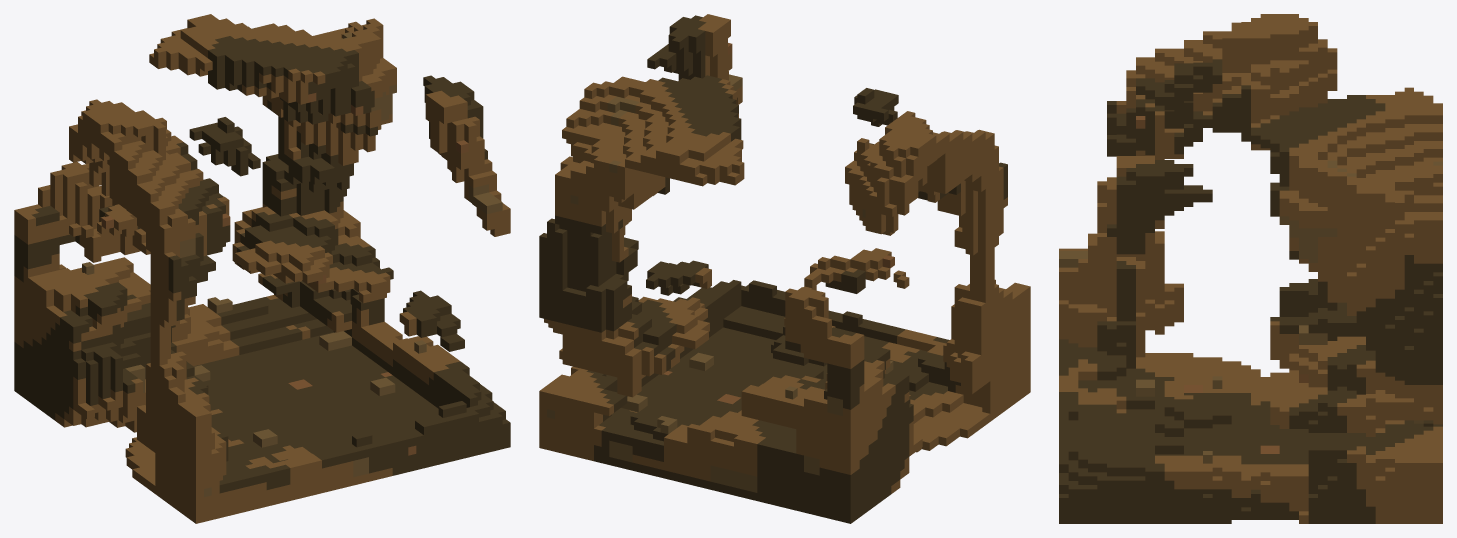
3 views of the same model, side by side, from view 1: azimuth 30°, elevation 25°; view 2: azimuth 150°, elevation 25°; view 3: azimuth 270°, elevation 25° (orthographic). The views are drawn at different scales.
Visible parts, largest first — view 1: tu; view 2: tu; view 3: tu.
Part boxes in pixels (left/top/right/bottom): tu: left=14, top=14, right=510, bottom=523; tu: left=539, top=14, right=1030, bottom=523; tu: left=1059, top=14, right=1442, bottom=523.
Bounding box in the file's own units: 40 × 40 × 40.
Materials: 1 (1 with a texture image).
